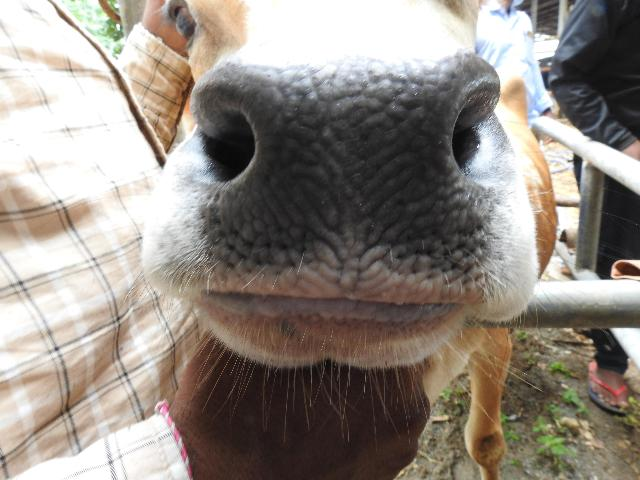Muzzle: (258, 66, 434, 292)
